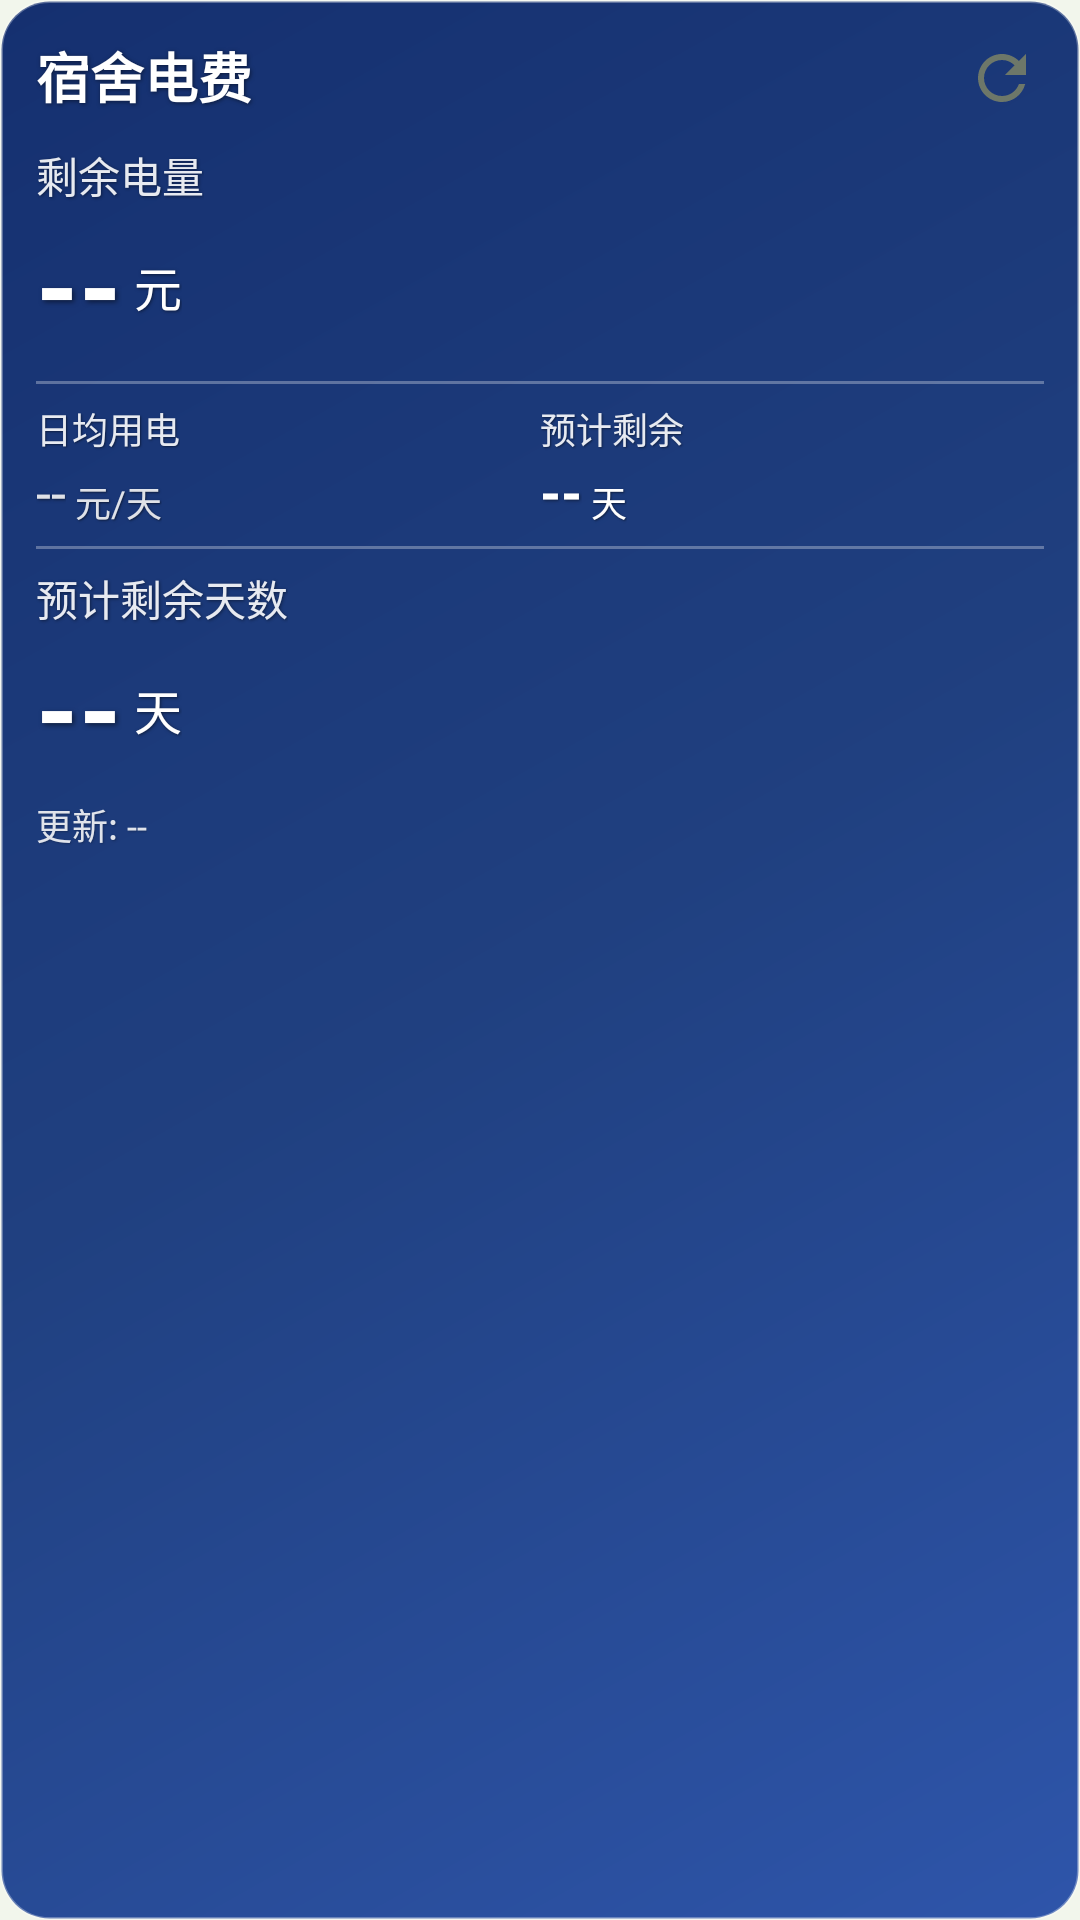

Icon bounding boxes for this 1080px x 1920px phone screenshot, format {"left": x1, "top": y1, "right": x2, "bottom": y2}:
刷新电费数据: {"left": 978, "top": 54, "right": 1026, "bottom": 102}
